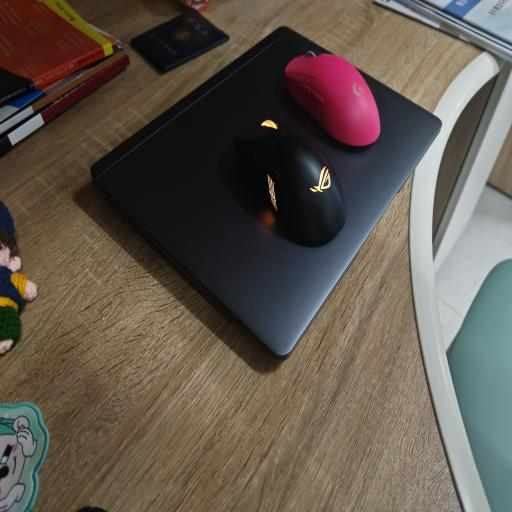laptop: (89, 24, 444, 362)
mouse: (234, 120, 347, 244), (285, 51, 380, 146)
